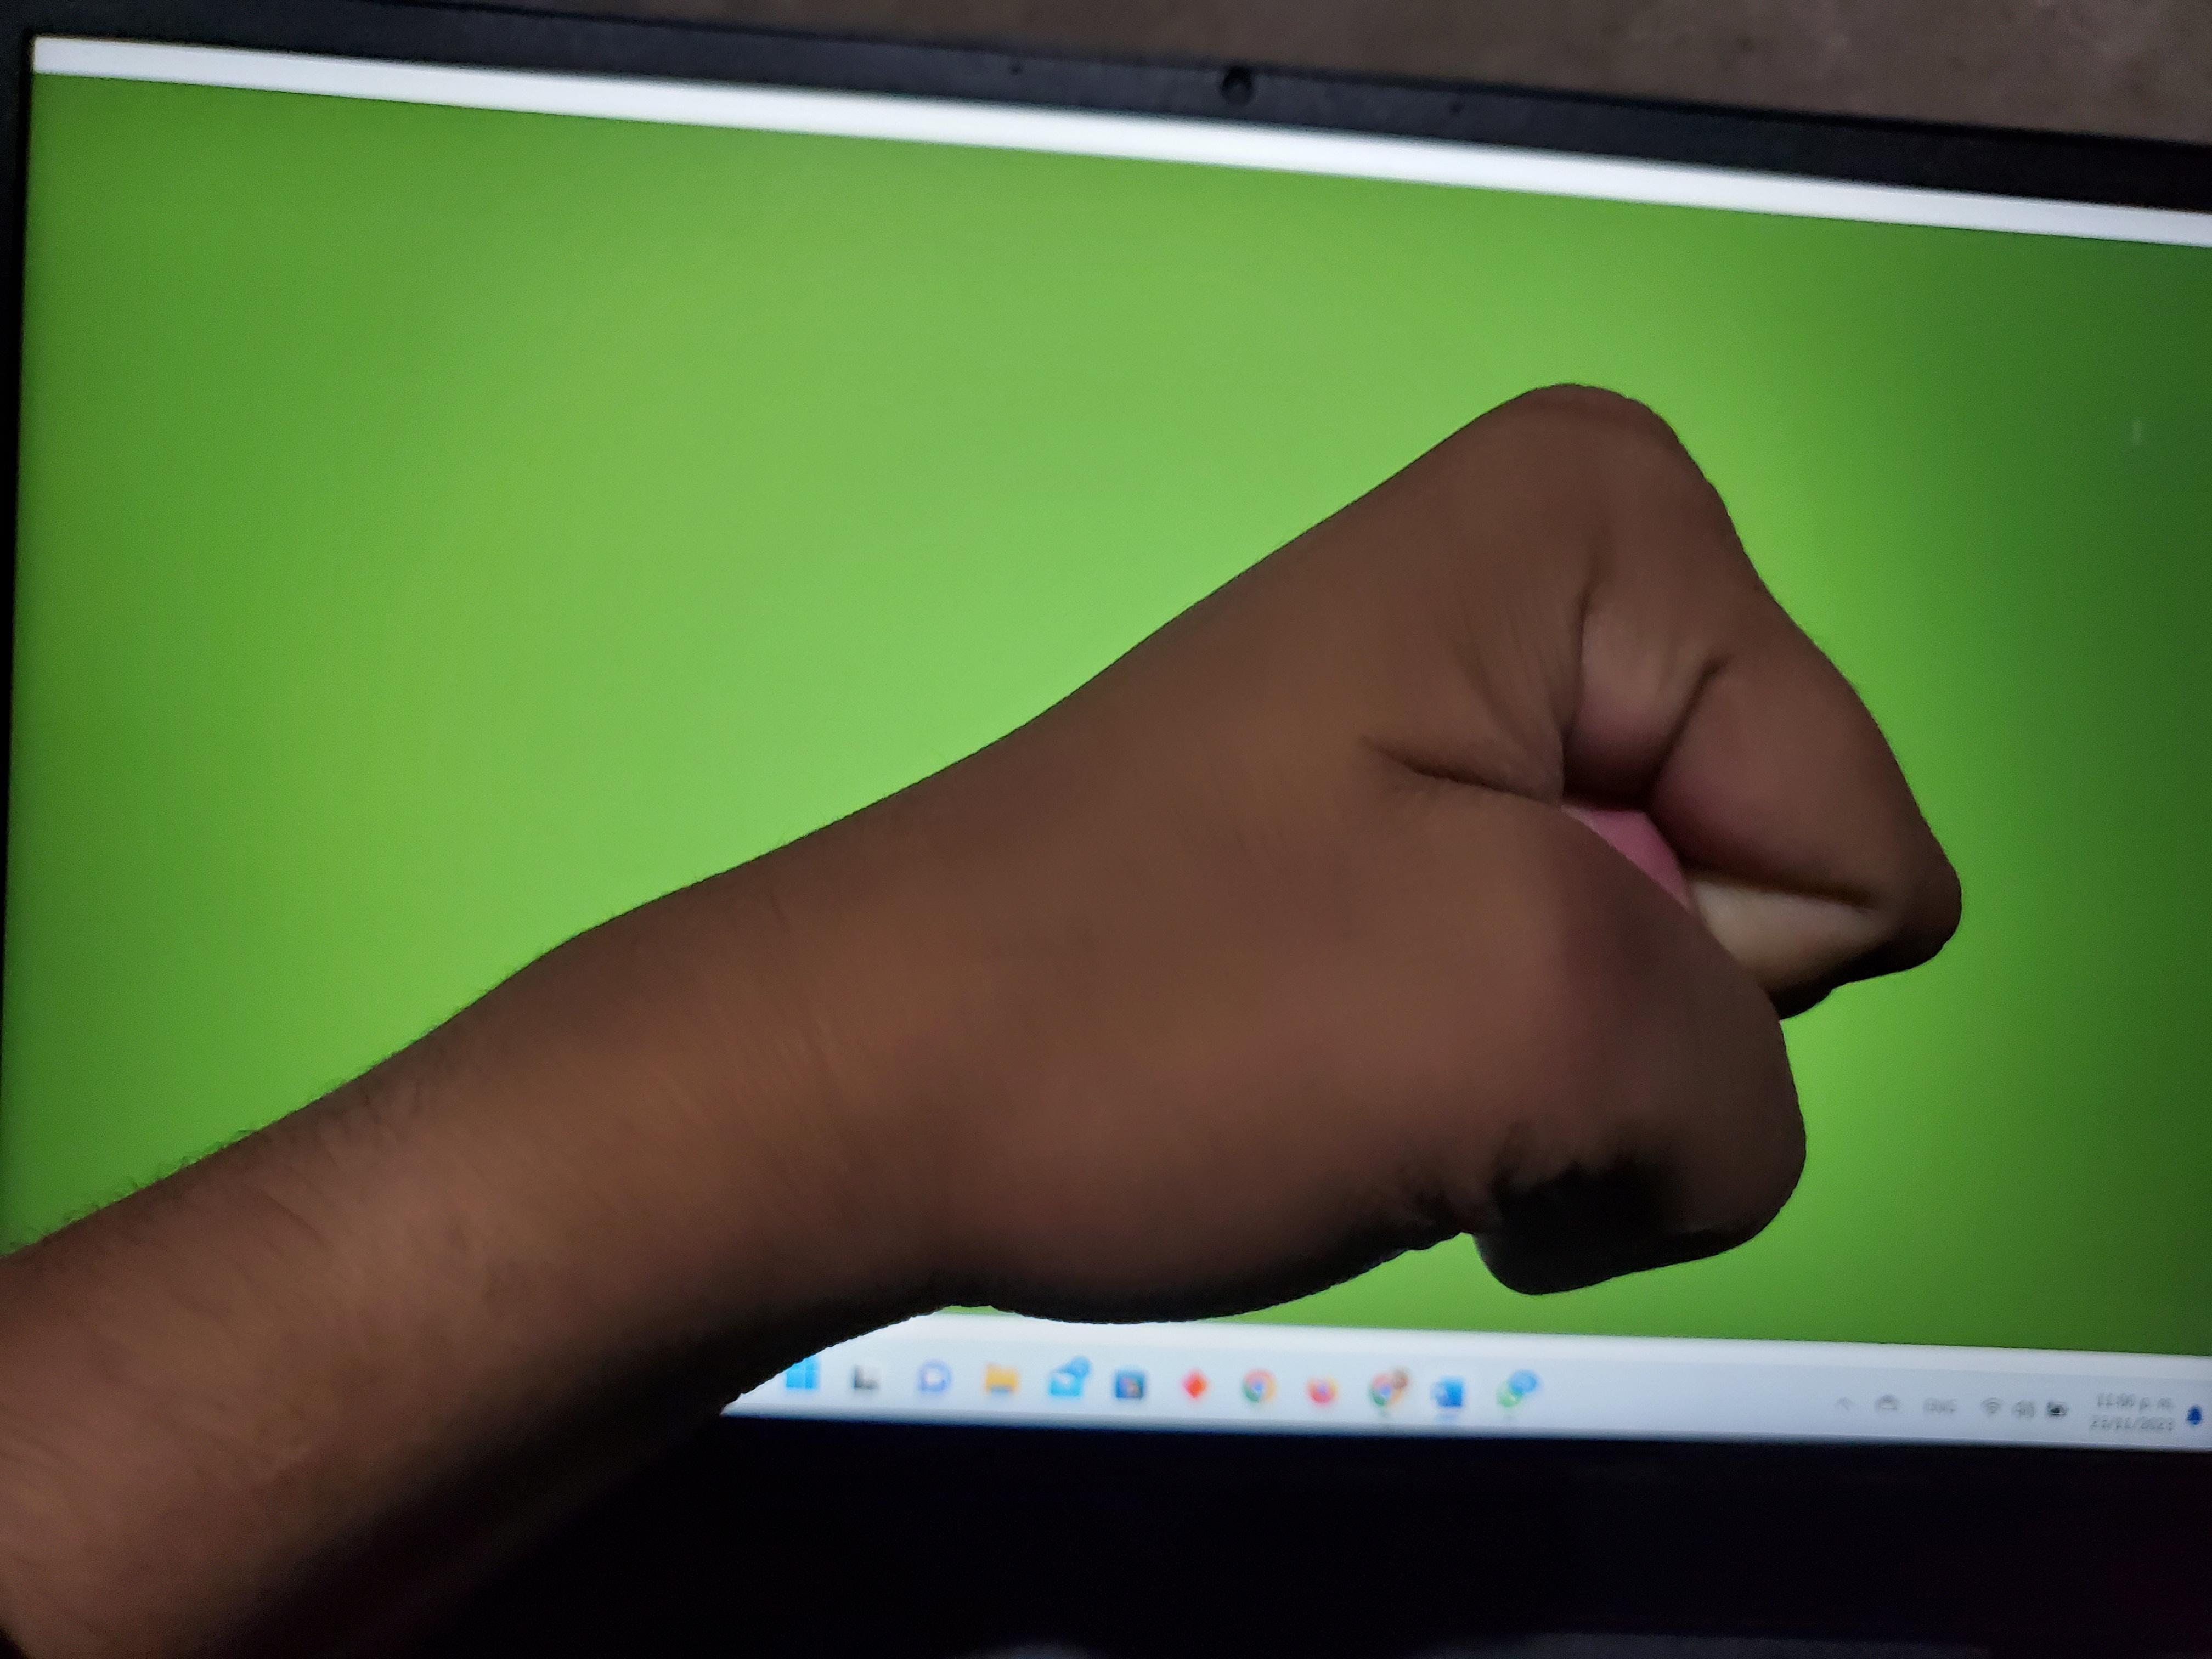Stone: (341, 193, 2212, 1575)
